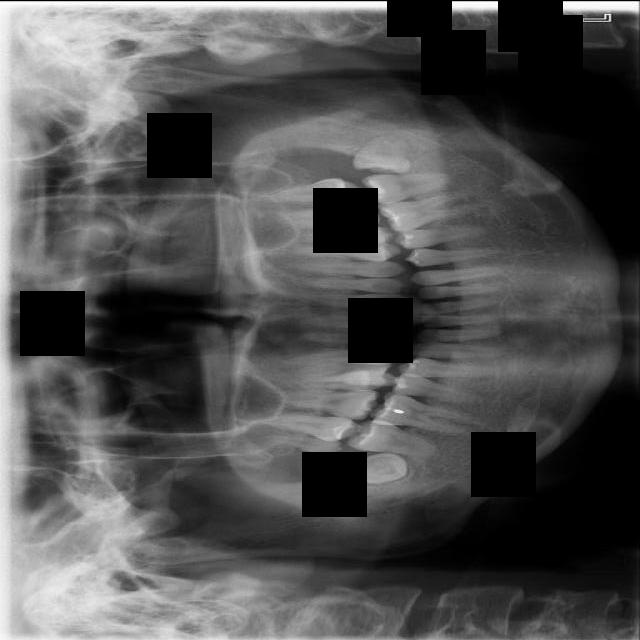3M ESPE Implant: (263, 430, 344, 457)
52: (351, 200, 382, 225), (354, 421, 381, 447), (375, 394, 399, 422), (380, 202, 403, 227), (393, 375, 408, 390), (402, 232, 414, 247), (408, 252, 420, 263), (392, 407, 405, 414)
73: (576, 54, 600, 63)
BioHorizons Implant: (256, 177, 362, 202)
Biomet 3i Implant: (352, 132, 412, 173)
Blue Sky Bio Implant: (362, 171, 455, 204)
Caries: (265, 412, 364, 442)
Implant: (345, 415, 441, 458)
Keystone Dental Implant: (345, 447, 410, 491)
